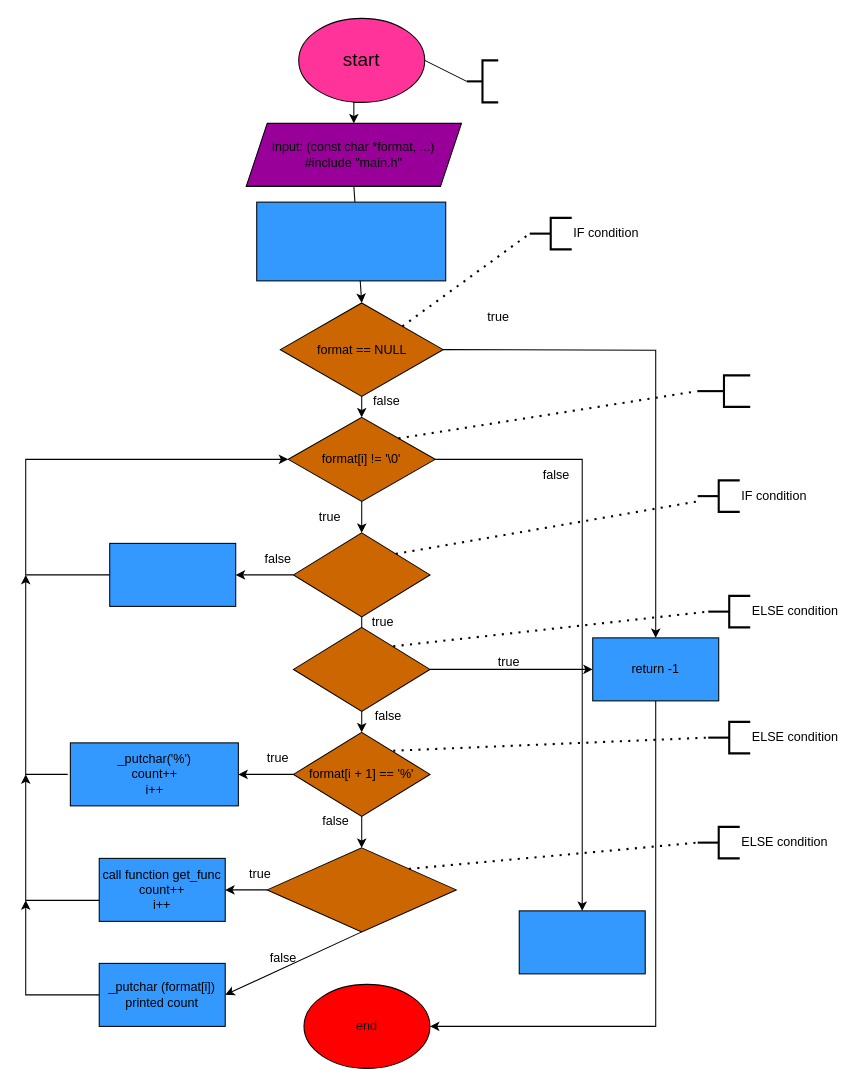
Some shapes in this 857 by 1087 pixel diagram are drawn without their labels. The centre of each missing label's shape, as x and y in pixels:
"_putchar format[i] count++" goes at [172,574].
"FOR condition" goes at [723,390].
"format[i + 1] == '\0'" goes at [361,668].
"format[i] == '%'" goes at [361,574].
"get_func(format i + 1) != NULL" goes at [361,889].
"initialize int i = 0 initialize count = 0 declare va_arg, va_list, va_start" goes at [351,241].
"int _printf(const char *format, ...)" goes at [482,81].
"va_end return (count)" goes at [581,942].
